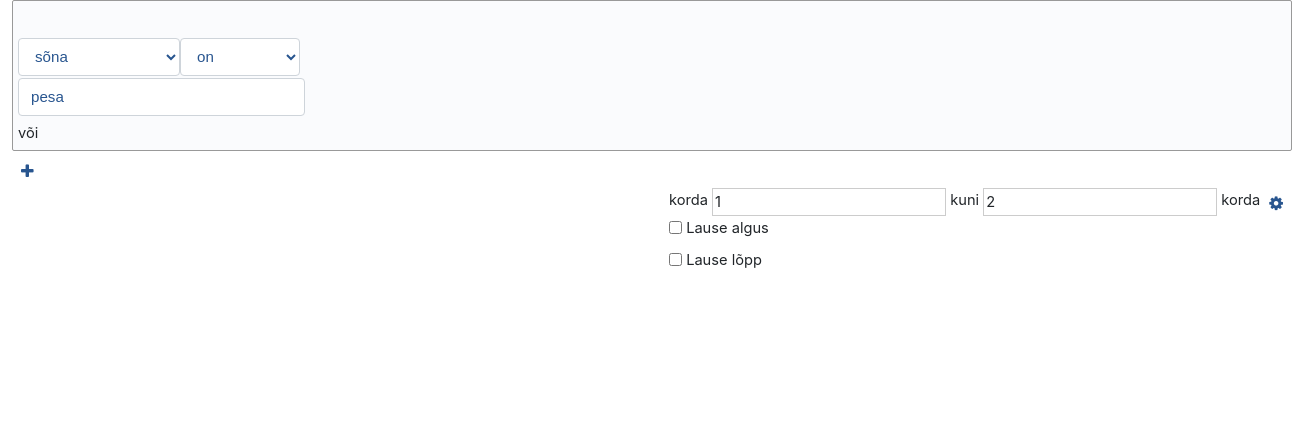
Scenario: adding AND arg
Expected: the number of elements with test id "orarg" is 1, [18,38,305,116]
Expected: the number of fields with test id "fcsquery-form-textinput" is 1, [18,78,305,116]
Click the button with test id "addAndButton": x=27, y=172 [12,156,43,188]
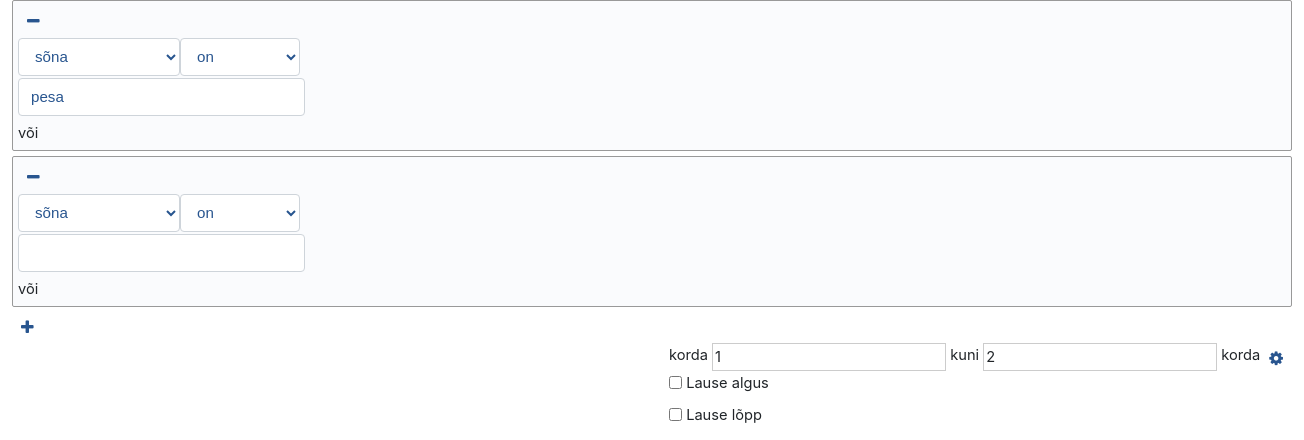
Now the number of elements with test id "orarg" is 2, box [18,6,305,116]; [18,162,305,272]
